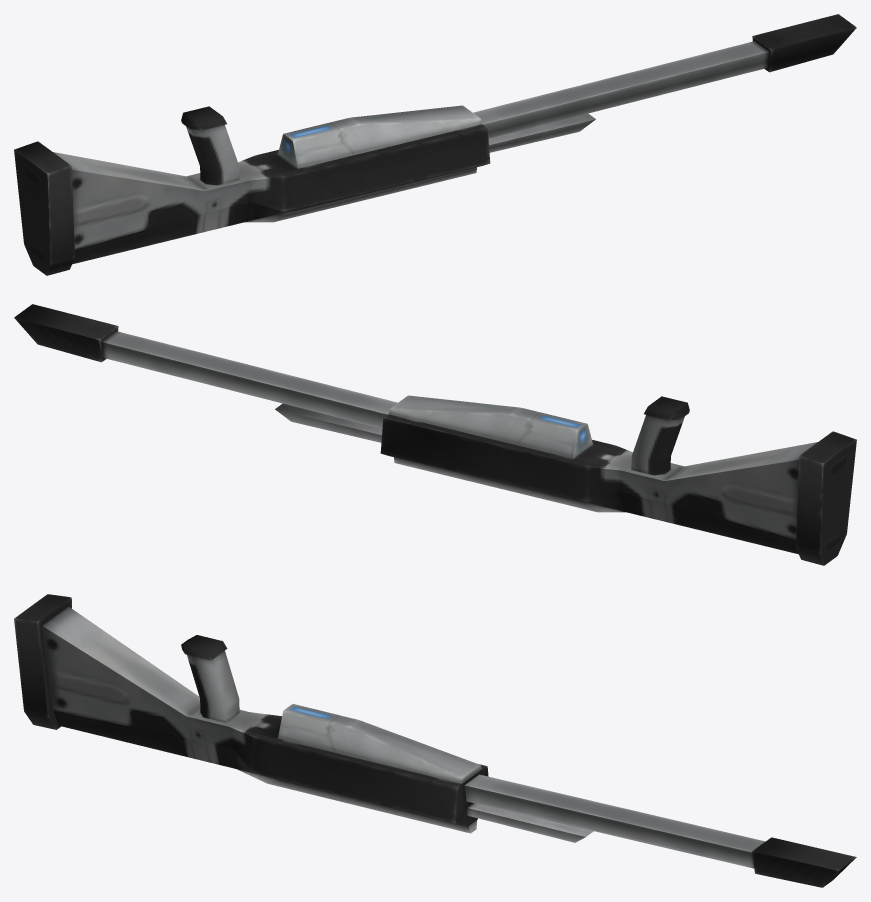
Rendered from ion_sniper_item.obj.
3 renders of one model, top to bottom at view 1: azimuth 30°, elevation 25°; view 2: azimuth 150°, elevation 25°; view 3: azimuth 330°, elevation 25°, orthographic.
Parts seen in each view (by area): view 1: ion_sniper; view 2: ion_sniper; view 3: ion_sniper.
Boxes of the visible parts, x1,y1,x2,y2 form: ion_sniper: (14,14,856,275); ion_sniper: (14,304,856,565); ion_sniper: (14,594,856,887).
Size of the model in its own units: 1.2 by 0.1718 by 0.0898.
